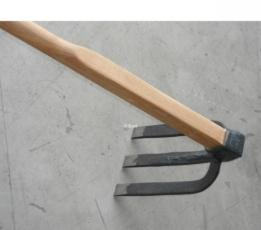HOUE: (0, 25, 261, 230)
